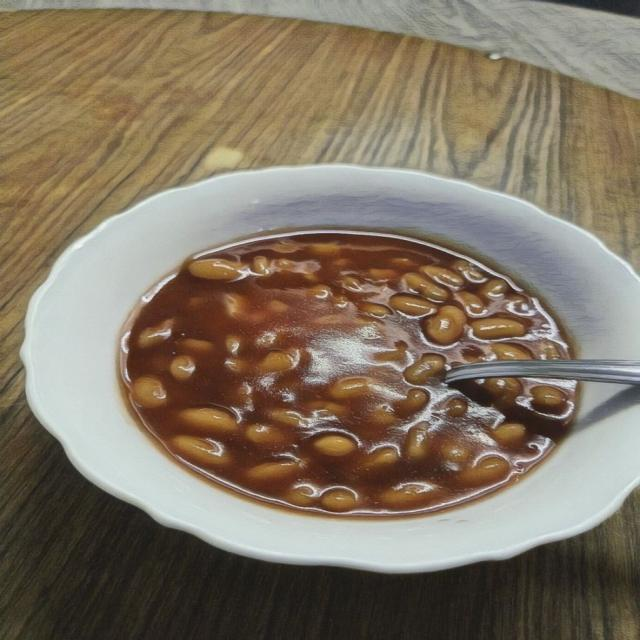beans: (172, 436, 231, 465), (423, 306, 466, 344), (458, 456, 510, 486), (178, 408, 238, 433), (380, 483, 435, 507), (403, 273, 448, 302), (404, 354, 445, 385), (188, 259, 246, 280), (471, 318, 526, 339), (247, 459, 299, 481), (132, 376, 166, 408), (389, 294, 437, 316), (138, 320, 174, 348), (419, 265, 464, 287), (406, 423, 432, 459), (531, 385, 566, 411), (314, 435, 357, 456), (329, 378, 372, 399), (363, 446, 400, 469), (321, 488, 358, 511), (259, 351, 297, 373), (491, 423, 526, 446), (396, 389, 428, 414), (452, 260, 486, 283), (245, 425, 284, 445), (482, 378, 521, 398), (455, 291, 485, 314), (268, 408, 304, 427), (440, 441, 471, 463), (374, 342, 407, 362), (286, 485, 317, 506), (492, 344, 531, 360), (223, 293, 247, 319), (307, 401, 348, 416), (170, 356, 195, 380), (480, 279, 509, 299), (371, 405, 397, 426), (507, 294, 532, 315), (179, 338, 213, 353), (444, 398, 467, 417), (361, 303, 392, 317), (269, 240, 302, 253), (235, 382, 253, 405), (313, 314, 345, 326), (225, 357, 249, 373), (367, 268, 398, 280), (255, 331, 278, 347), (307, 285, 332, 299), (311, 243, 340, 255), (541, 342, 560, 360), (252, 256, 269, 275), (226, 336, 242, 356), (341, 276, 362, 291), (390, 258, 418, 269), (267, 300, 289, 313), (274, 259, 296, 271), (333, 258, 355, 268), (334, 295, 349, 307), (302, 273, 319, 283)
